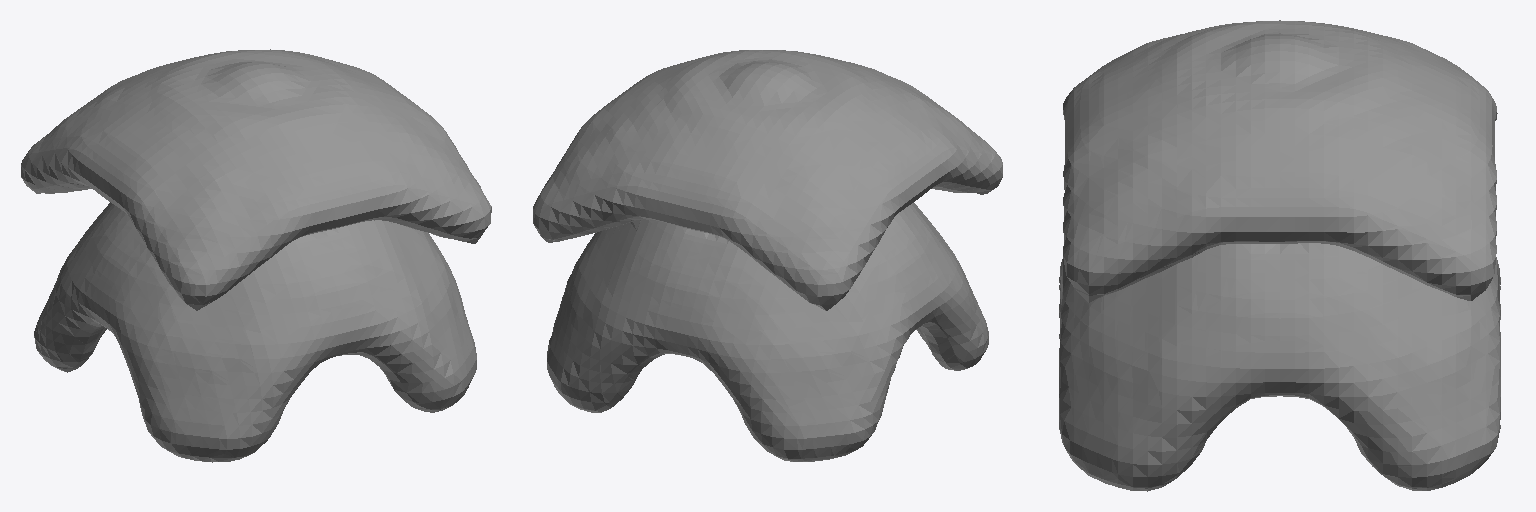
The robot description file, URDF, robot "cube.urdf":
<?xml version="0.0" ?> 
<robot name="cube.urdf"> 
<link name="legobrick"> 
<contact> 
<lateral_friction value="5.0"/> 
<rolling_friction value="0.0"/> 
<contact_cfm value="0.0"/> 
<contact_erp value="1.0"/> 
</contact> 
<inertial> 
<origin rpy="0 0 0" xyz="0.0 0.0 0.0"/> 
<mass value=".01"/> 
<inertia ixx="1" ixy="0" ixz="0" iyy="1" iyz="0" izz="1"/> 
</inertial> 
<visual> 
<origin rpy="1.570796 0 0" xyz="-0.02591366798141945 0.025848744151363873 -0.023540320393621788"/> 
<geometry> 
<mesh filename="T10_0.obj" scale="0.0006473164713755507 0.0006473164713755507 0.0006473164713755507"/> 
</geometry> 
<material name="yellow"> 
<color rgba="0.6 0.6 0.6 1"/> 
</material> 
</visual> 
<collision> 
<origin rpy="1.570796 0 0" xyz="-0.02591366798141945 0.025848744151363873 -0.023540320393621788"/> 
<geometry> 
<mesh filename="T10_0.obj" scale="0.0006473164713755507 0.0006473164713755507 0.0006473164713755507"/> 
</geometry> 
</collision> 
</link> 
</robot>

--- What the picture shows (computed from the rendered views, not written in the file) ---
3 views of the same robot in one strip: view 1: azimuth 30°, elevation 25°; view 2: azimuth 150°, elevation 25°; view 3: azimuth 270°, elevation 25° (orthographic).
Model cube.urdf with 1 links and 0 joints (none), rooted at legobrick, posed every joint at zero.
Visible links, largest first — view 1: legobrick; view 2: legobrick; view 3: legobrick.
Link boxes in pixels (left/top/right/bottom): legobrick: left=21, top=49, right=491, bottom=462; legobrick: left=533, top=50, right=1002, bottom=461; legobrick: left=1059, top=20, right=1500, bottom=491.
Size in the robot's own frame: 0.0561 by 0.056 by 0.0518 metres.
Meshes: 1 distinct files referenced, 1 mesh visuals loaded (1 OBJ).
